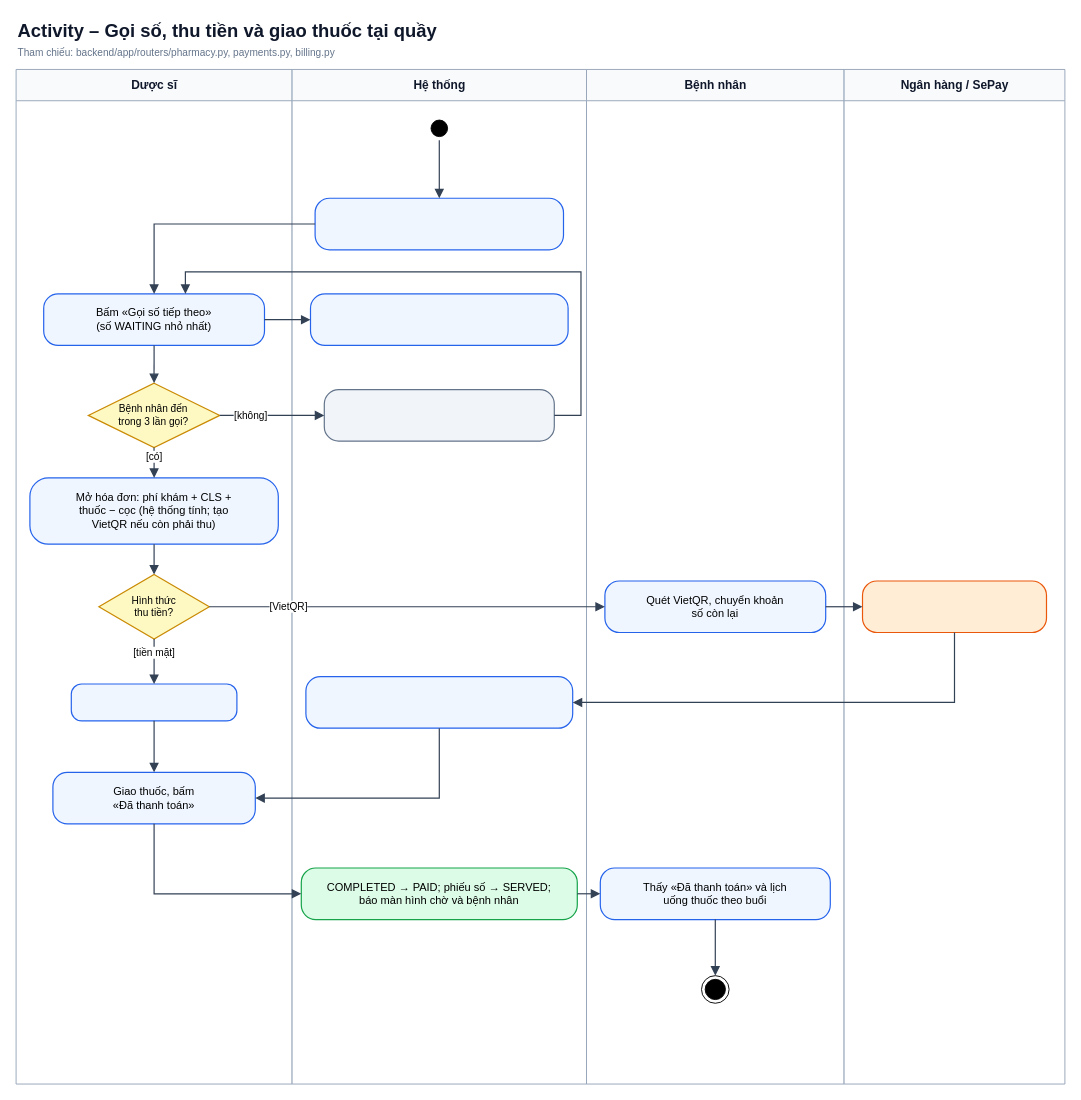
The diagram is 1081 pixels wide and 1100 high, and some of its shapes have lost their labels. The shapes that lost their labels are listed below. From the top down, each one's centre as x and y in pixels, then its label:
At point 439,223: "Bác sĩ chốt ca: hệ thống cấp số thứ tự quầy thuốc".
At point 438,319: "Màn hình chờ hiện và đọc số (Web Speech); điện thoại báo «Đến lượt bạn»".
At point 438,415: "Chuyển số xuống cuối hàng (position = max + 1)".
At point 954,606: "Gửi webhook SePay (nội dung = mã khám)".
At point 153,702: "Thu tiền mặt".
At point 439,702: "Ghi payment FINAL (ca COMPLETED); báo realtime cho quầy thuốc".
